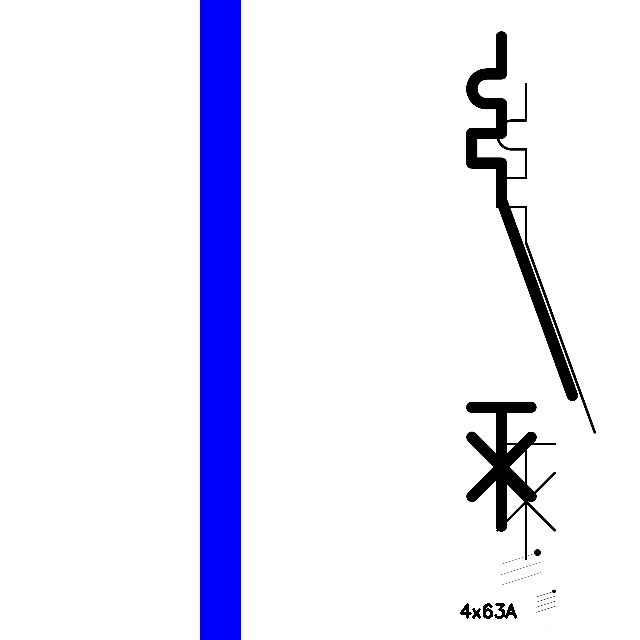interruptor_termomagnetico: (459, 24, 585, 539), (485, 72, 607, 572)
